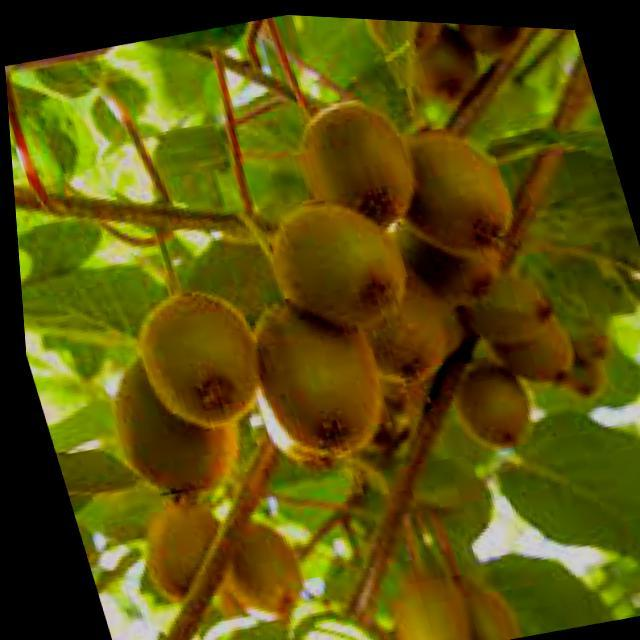kiwi: (84, 331, 248, 514), (235, 286, 391, 470), (252, 180, 412, 342), (117, 273, 268, 441), (371, 106, 520, 262), (281, 84, 424, 238), (334, 263, 456, 400), (186, 501, 304, 634), (120, 493, 229, 610), (441, 251, 554, 348), (465, 305, 579, 395), (438, 348, 532, 451), (363, 551, 470, 640)
